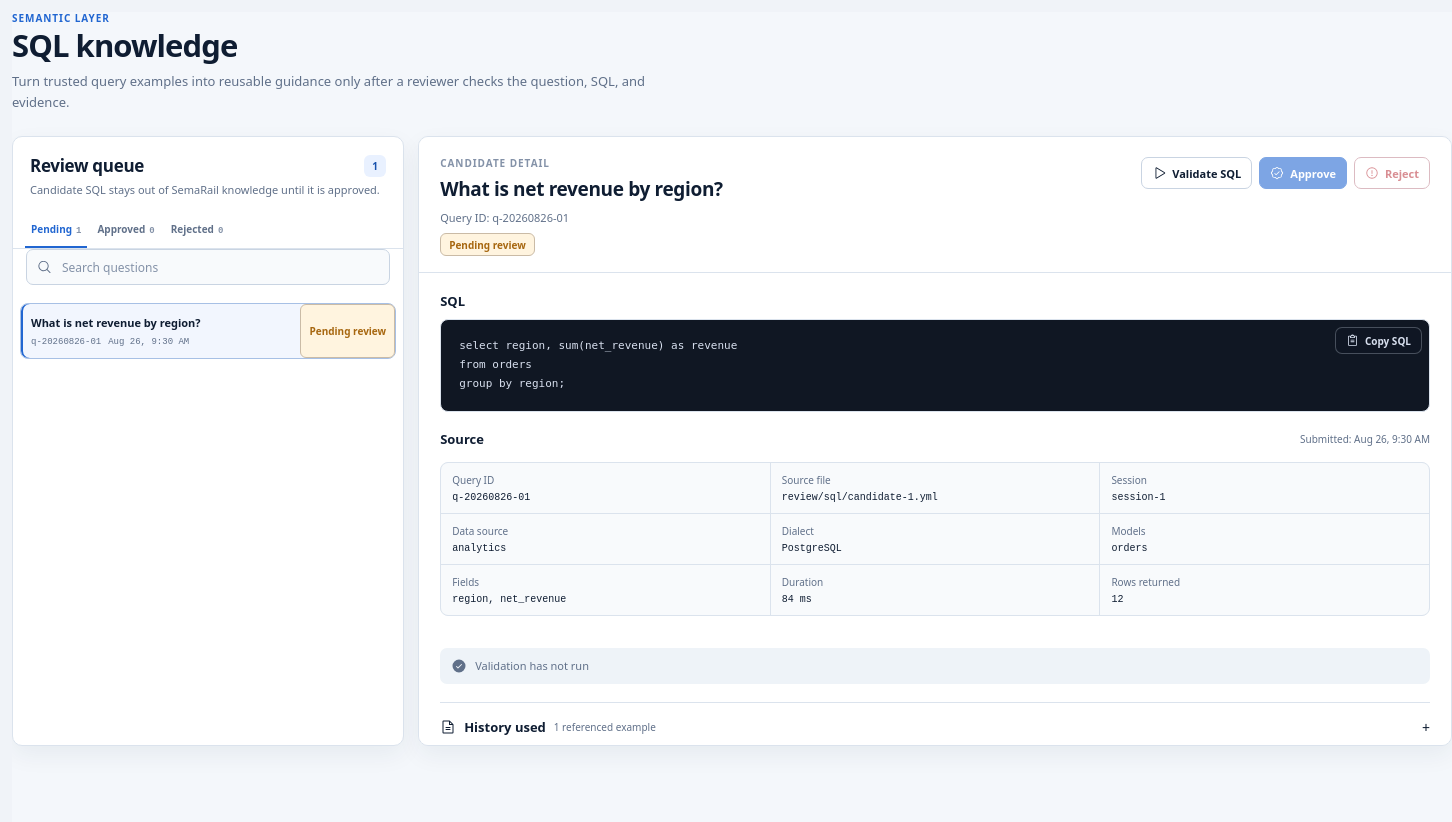
SqlKnowledgeWorkbench › requires successful validation before approval
The image size is (1452, 822).
Expected: the button "Approve" is disabled, [1259,157,1347,189]
What coordinates should you click on to do the following:
click the button "Validate SQL"
I would click on:
 (1197, 173)
Its box is [1141,157,1252,189].
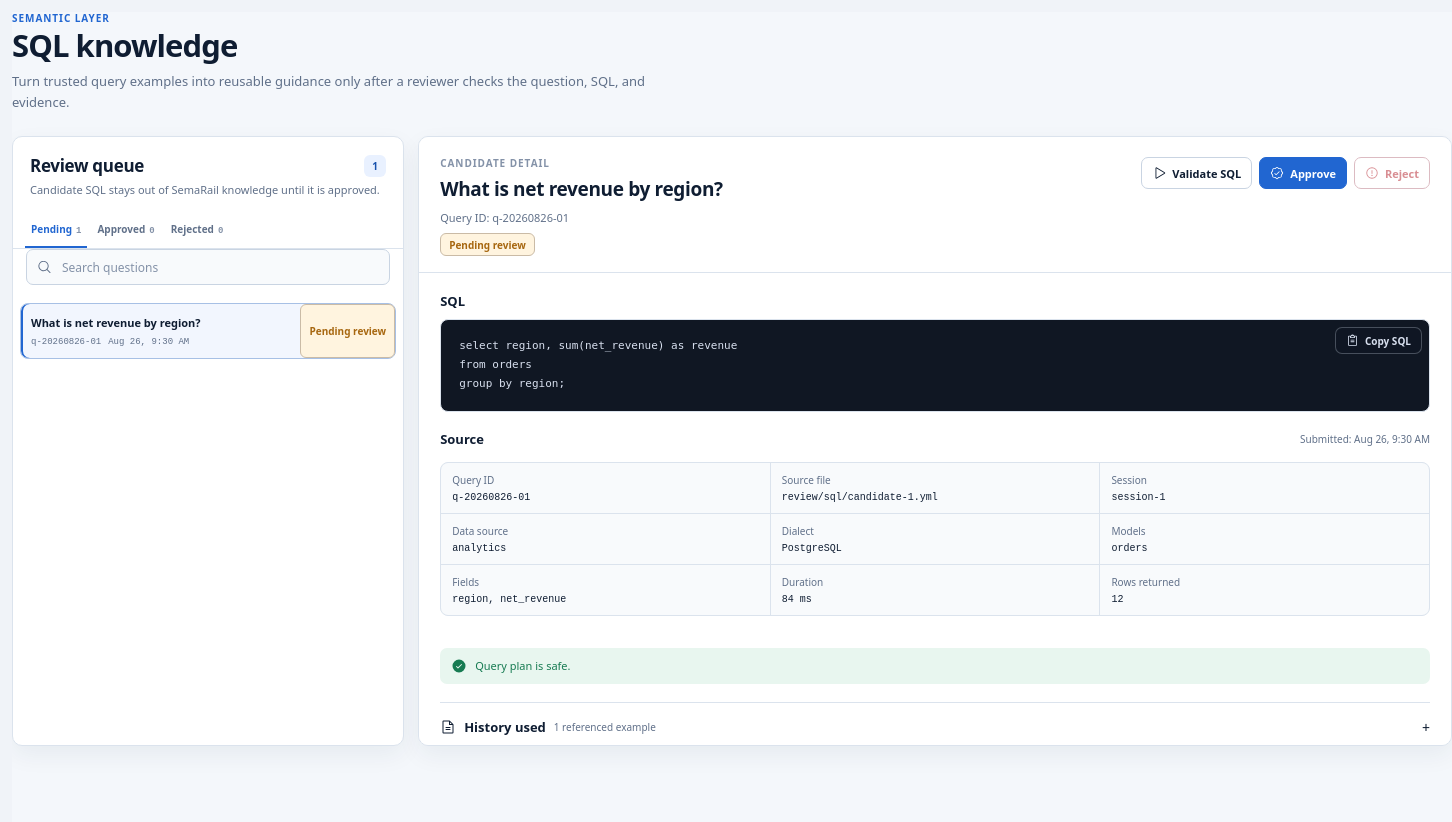
Result: the button "Approve" is enabled
What coordinates should you click on to do the following:
click the button "Approve"
I would click on:
 (1303, 173)
Its box is [1259,157,1347,189].
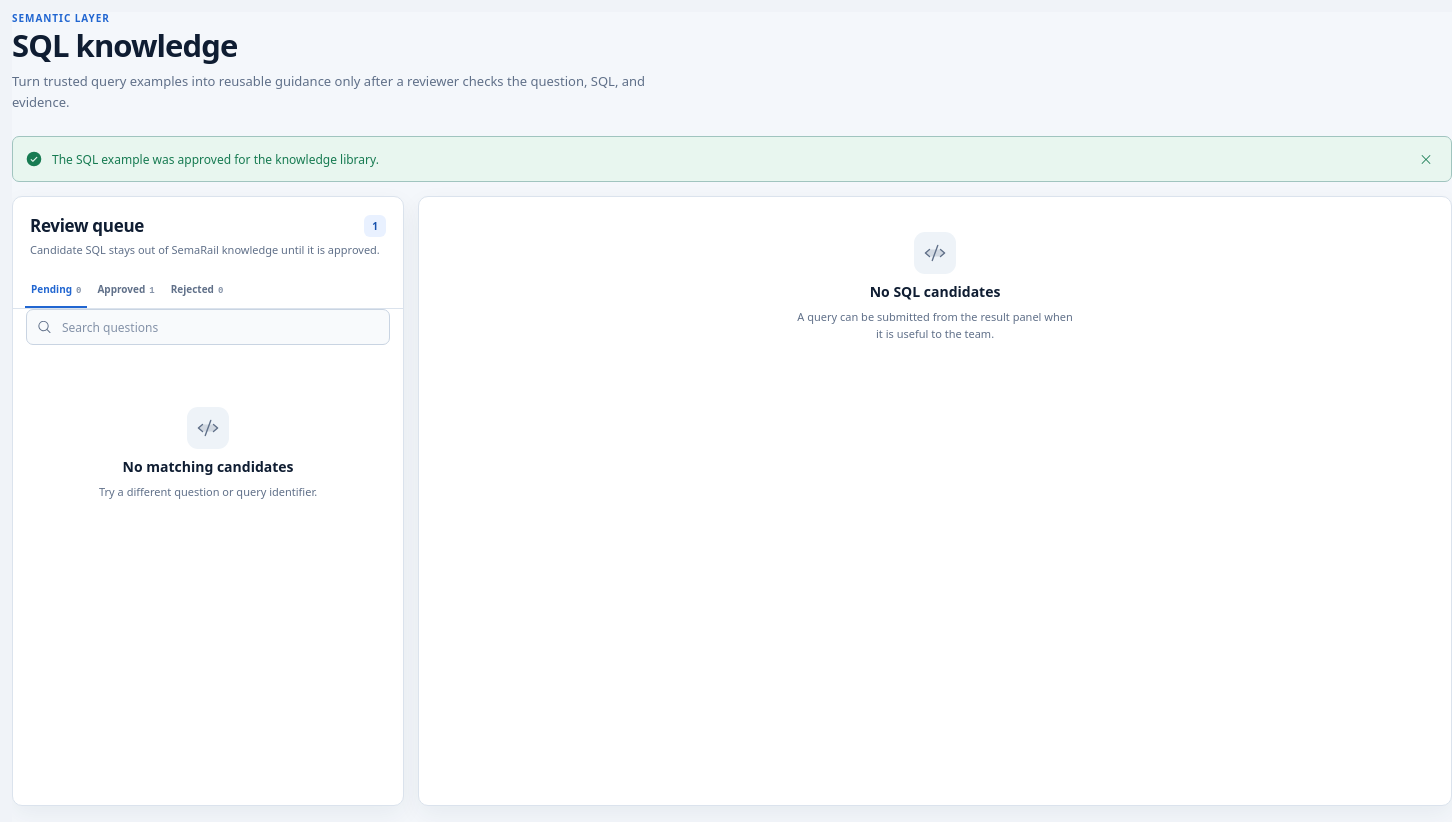
Result: the text "The SQL example was approved for the knowledge library." is shown at [52,151,379,168]
